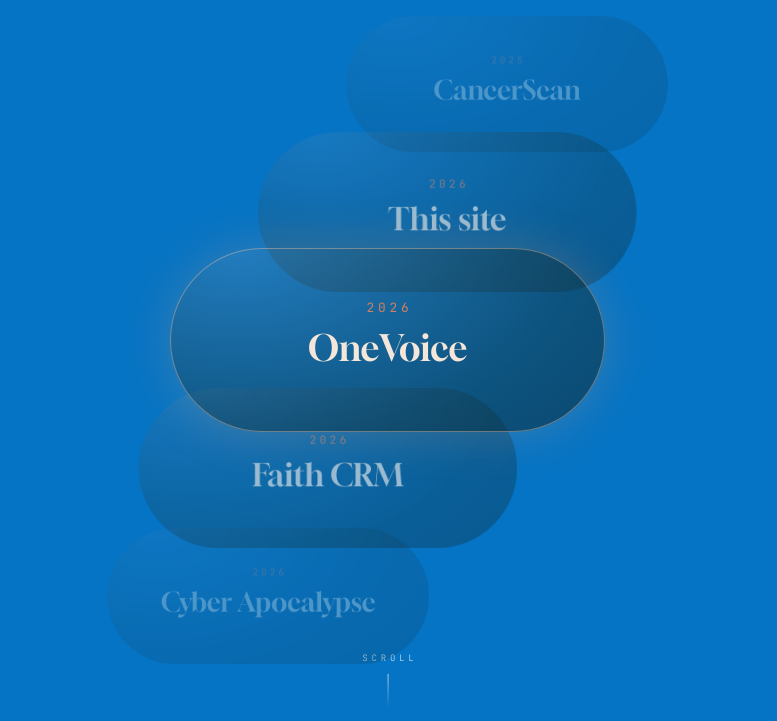
it: opening and closing a project › opens the focused pill on click and shows its details
Click the button named "OneVoice" next to "OneVoice": [388, 340] box [170, 248, 606, 432]
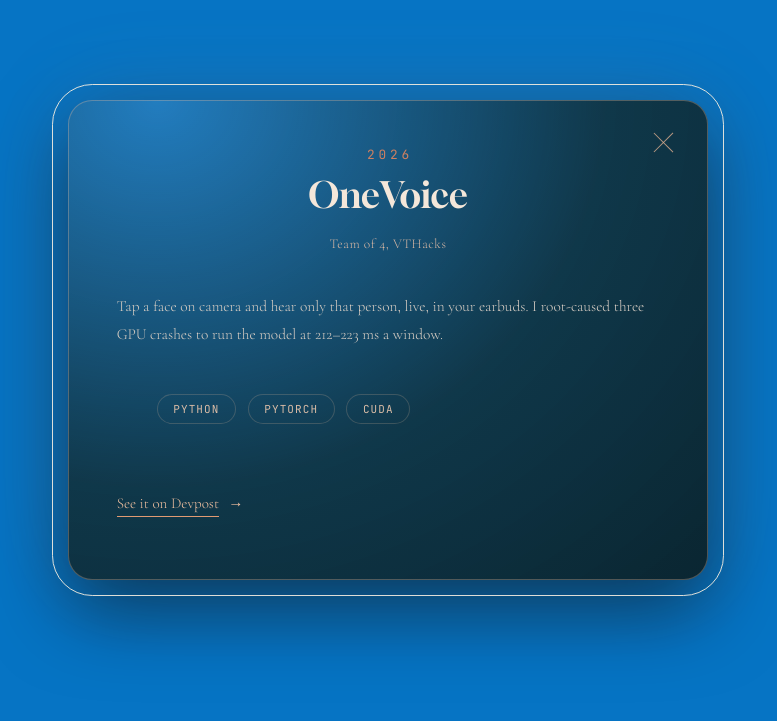
Result: the text "Tap a face on camera and hear only that person, live, in your earbuds. I root-caused three GPU crashes to run the model " is shown at [117, 297, 644, 343]
Result: the text "Team of 4, VTHacks" is shown at [329, 236, 446, 252]
Result: the list item "Python" is shown at [157, 394, 236, 424]
